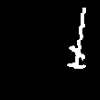double_crochet: (67, 8, 85, 68)
